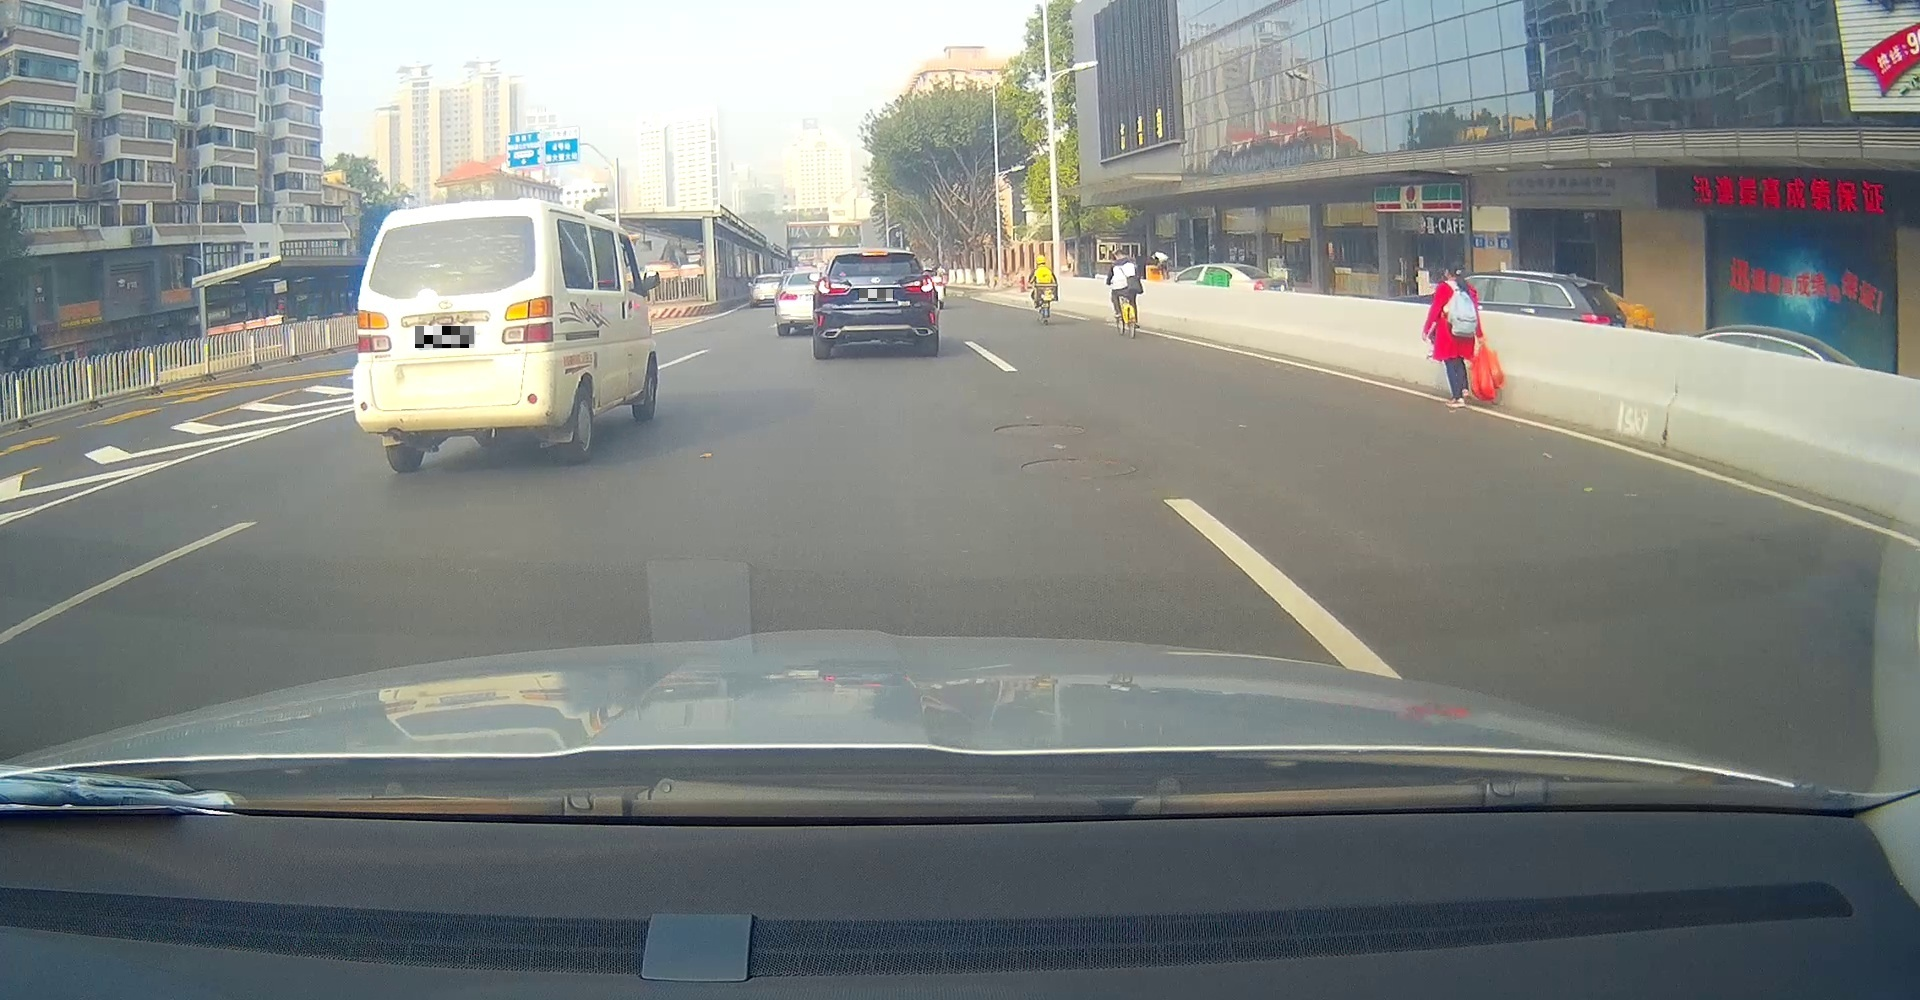L_light: (356, 311, 391, 352), (817, 279, 850, 294)
R_light: (500, 296, 554, 344), (905, 277, 935, 293)
T_light: (437, 220, 469, 228), (862, 251, 888, 256)
day-brake: (813, 247, 940, 360)
day-no: (353, 198, 557, 471)
plate_1: (415, 326, 474, 348)
plate_2: (858, 289, 893, 301)
